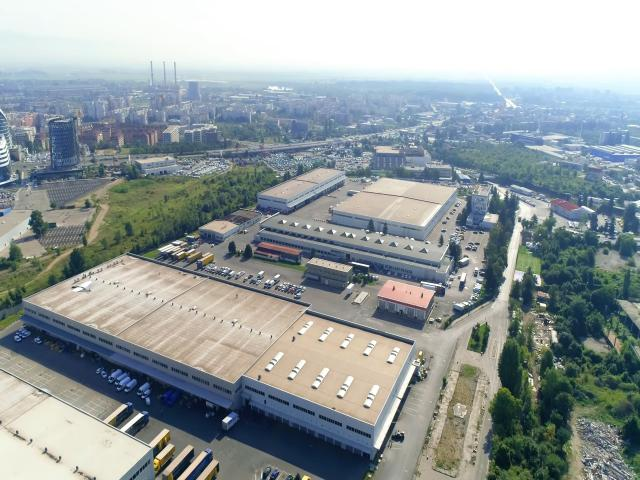plane: (419, 252, 445, 270), (419, 252, 445, 270), (70, 283, 92, 291)
